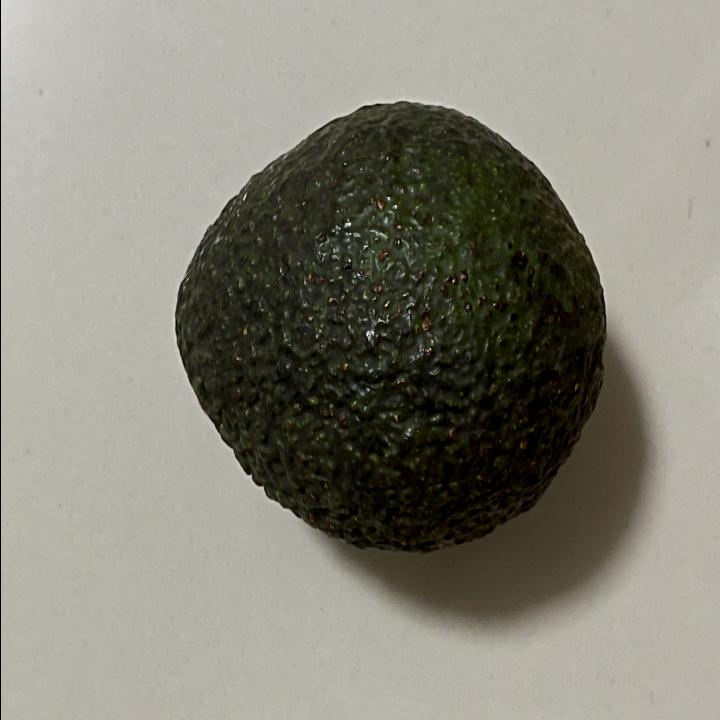Level1: (160, 83, 614, 570)
